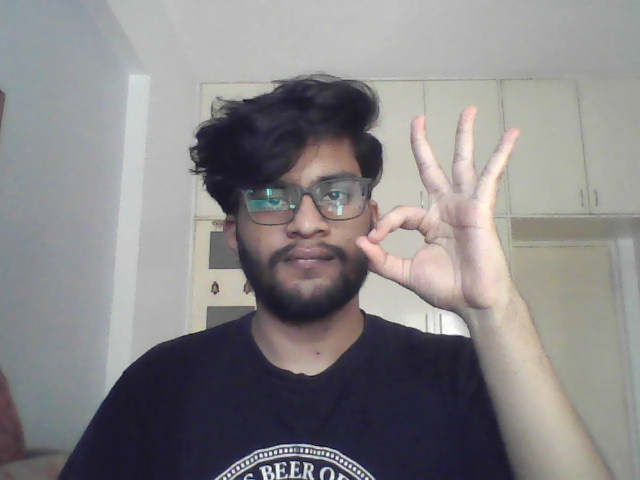Ok: (356, 103, 541, 314)
